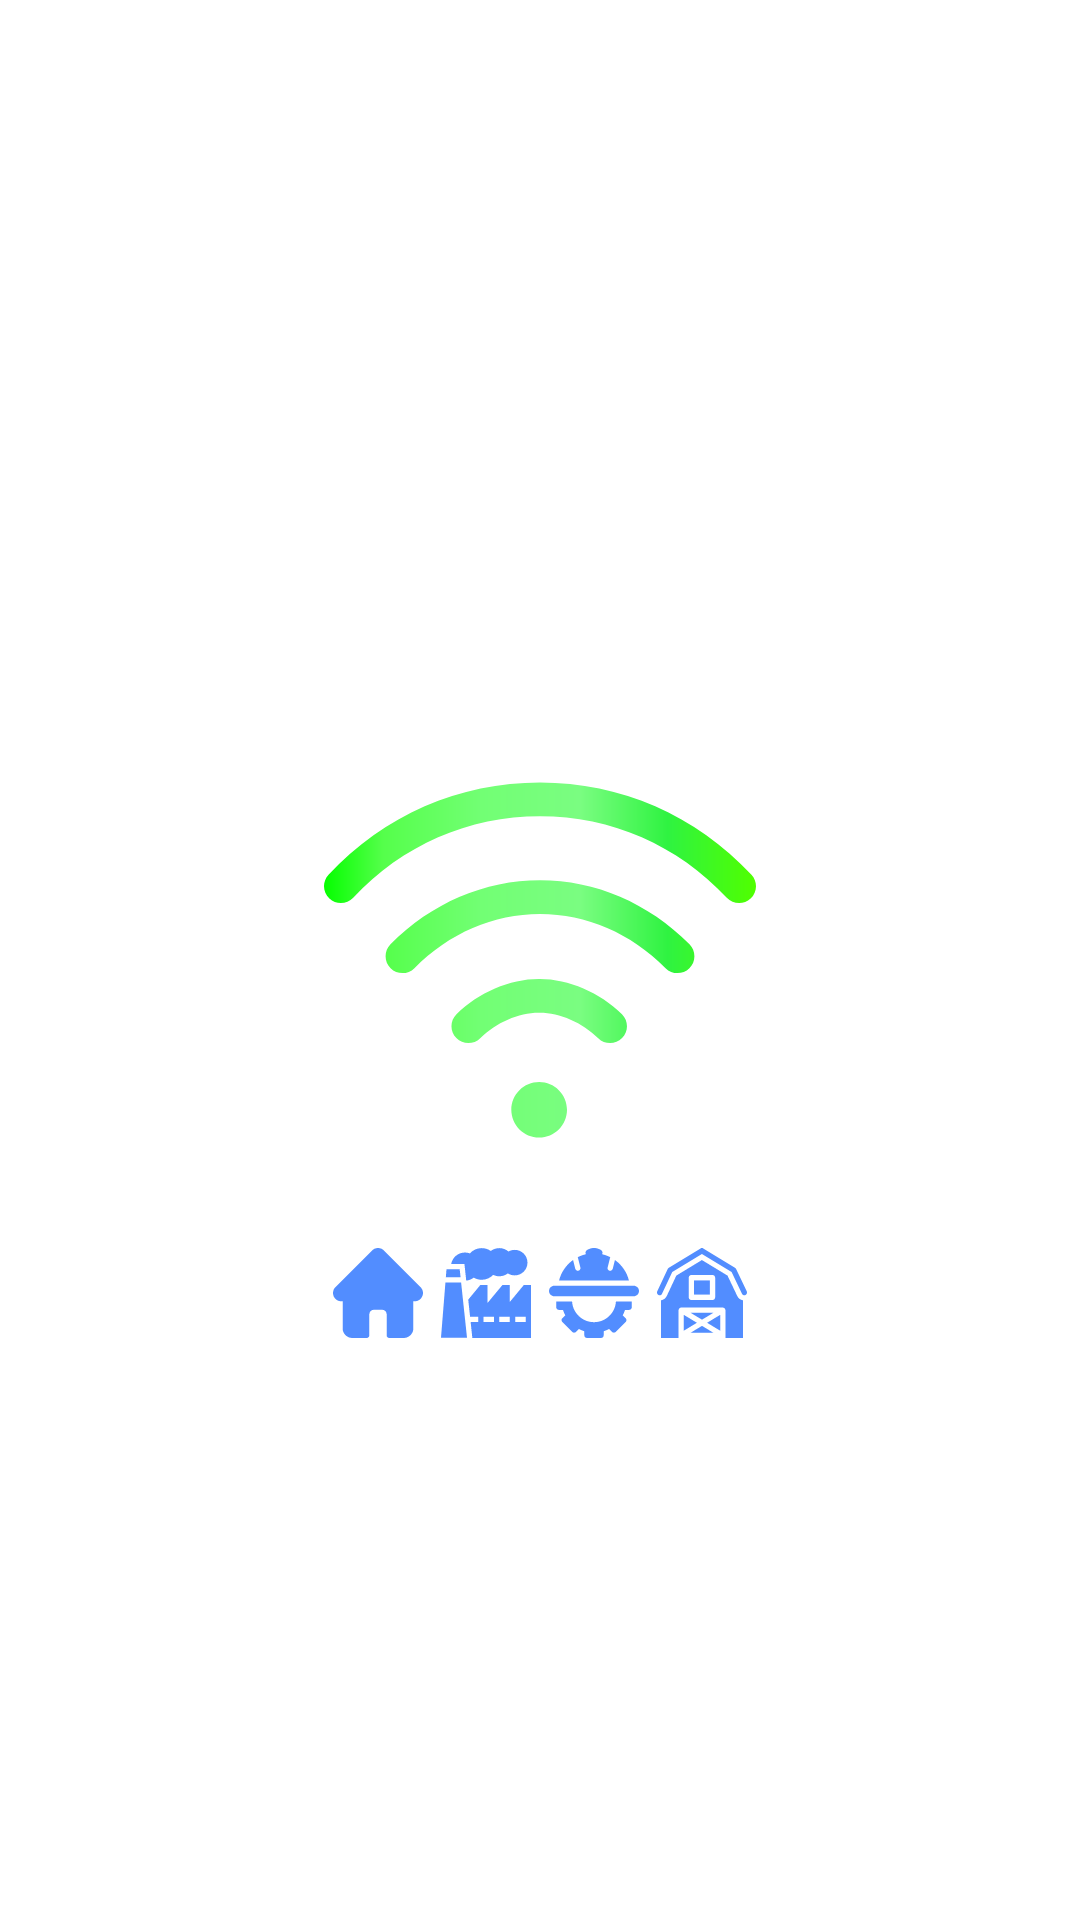

Icons on this 1080*1920 Android screen, each with its box as [left=x1, top=y1, right=x2, bottom=y2]:
barn: [left=657, top=1248, right=747, bottom=1338]
engineer: [left=549, top=1248, right=639, bottom=1338]
factory: [left=441, top=1248, right=531, bottom=1338]
home: [left=333, top=1248, right=423, bottom=1338]
